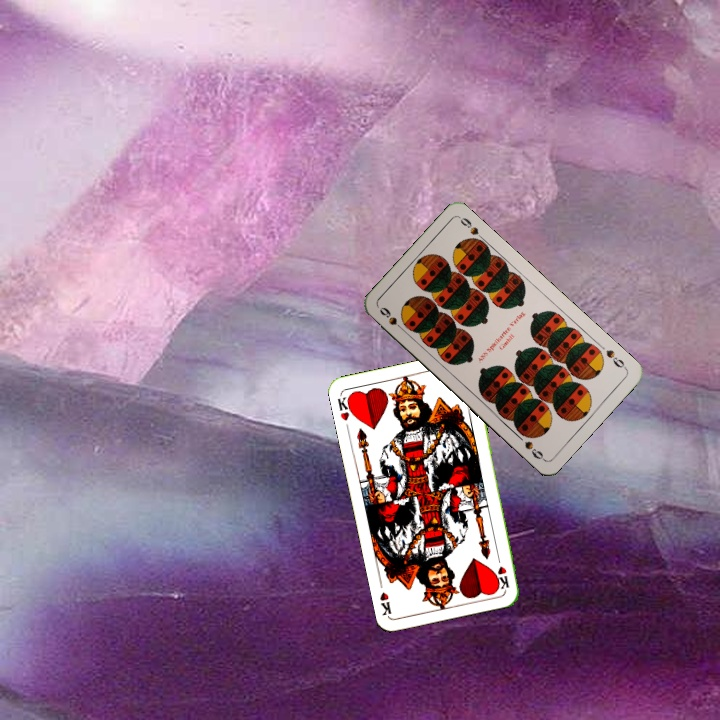HK: (493, 551, 512, 592), (333, 391, 356, 423)
S9: (375, 303, 408, 335), (602, 346, 629, 372)
